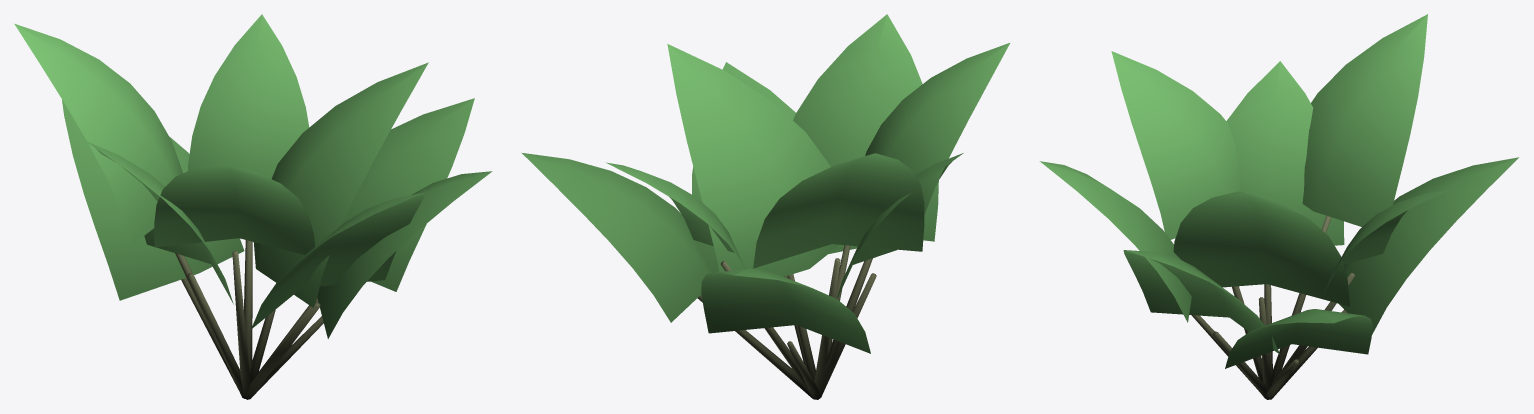
The model's file is SM_Veg_05_Broadleaf.fbx.
The picture shows the model from 3 angles, left to right: view 1: azimuth 30°, elevation 25°; view 2: azimuth 150°, elevation 25°; view 3: azimuth 270°, elevation 25°; orthographic projection. The views are drawn at different scales.
Parts seen in each view (by area): view 1: SM_Veg_05_Broadleaf; view 2: SM_Veg_05_Broadleaf; view 3: SM_Veg_05_Broadleaf.
Part boxes in pixels (x1,y1,x2,y2): SM_Veg_05_Broadleaf: (14, 14, 492, 399); SM_Veg_05_Broadleaf: (521, 14, 1009, 399); SM_Veg_05_Broadleaf: (1039, 14, 1518, 399).
Bounding box in the file's own units: 227 × 180 × 245.
